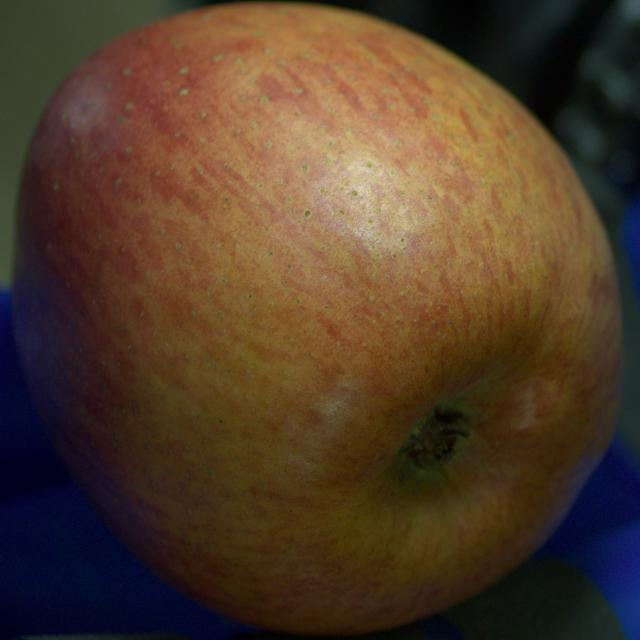apple: (13, 2, 621, 633)
